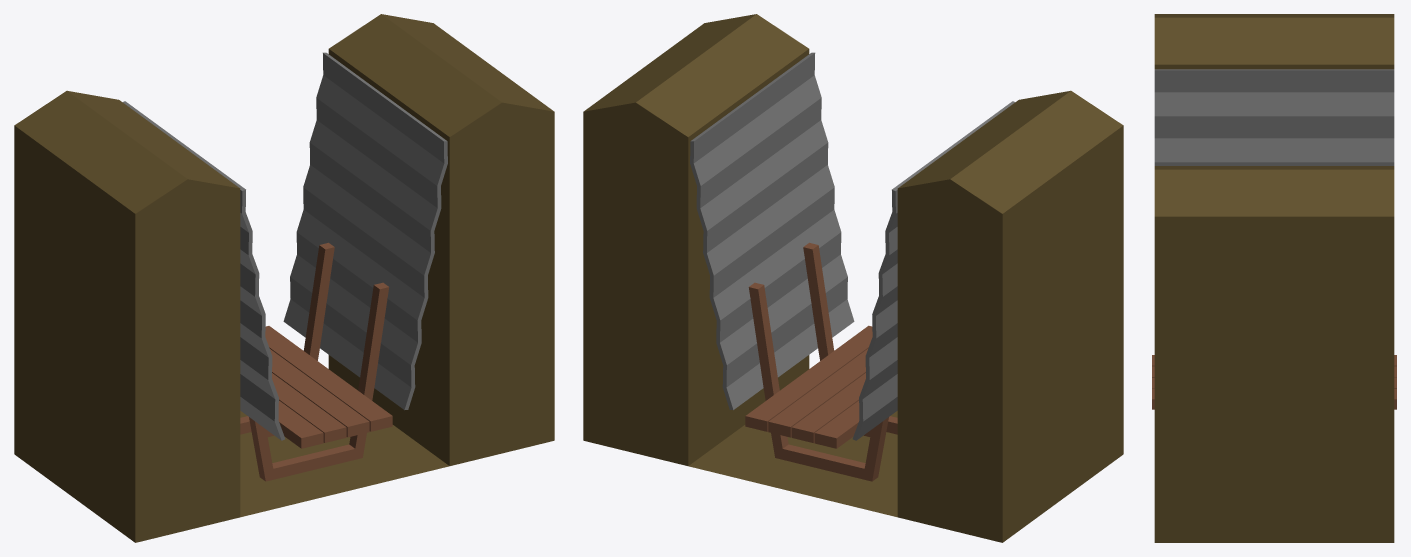
Rendered from Trench T-Section Straight.fbx.
3 renders of one model, left to right at view 1: azimuth 30°, elevation 25°; view 2: azimuth 150°, elevation 25°; view 3: azimuth 270°, elevation 25°, orthographic.
Visible parts, largest first — view 1: Trench Dirt T-Section Straight, Trench T-Section Straight; view 2: Trench Dirt T-Section Straight, Trench T-Section Straight; view 3: Trench Dirt T-Section Straight, Trench T-Section Straight.
Boxes of the visible parts, x1=… form: Trench Dirt T-Section Straight: x1=14, y1=14, x2=554, y2=542; Trench T-Section Straight: x1=122, y1=52, x2=447, y2=481; Trench Dirt T-Section Straight: x1=583, y1=14, x2=1123, y2=542; Trench T-Section Straight: x1=690, y1=52, x2=1015, y2=481; Trench Dirt T-Section Straight: x1=1154, y1=14, x2=1394, y2=542; Trench T-Section Straight: x1=1152, y1=69, x2=1396, y2=409.
Bounding box in the file's own units: 2000 × 1600 × 1020.
